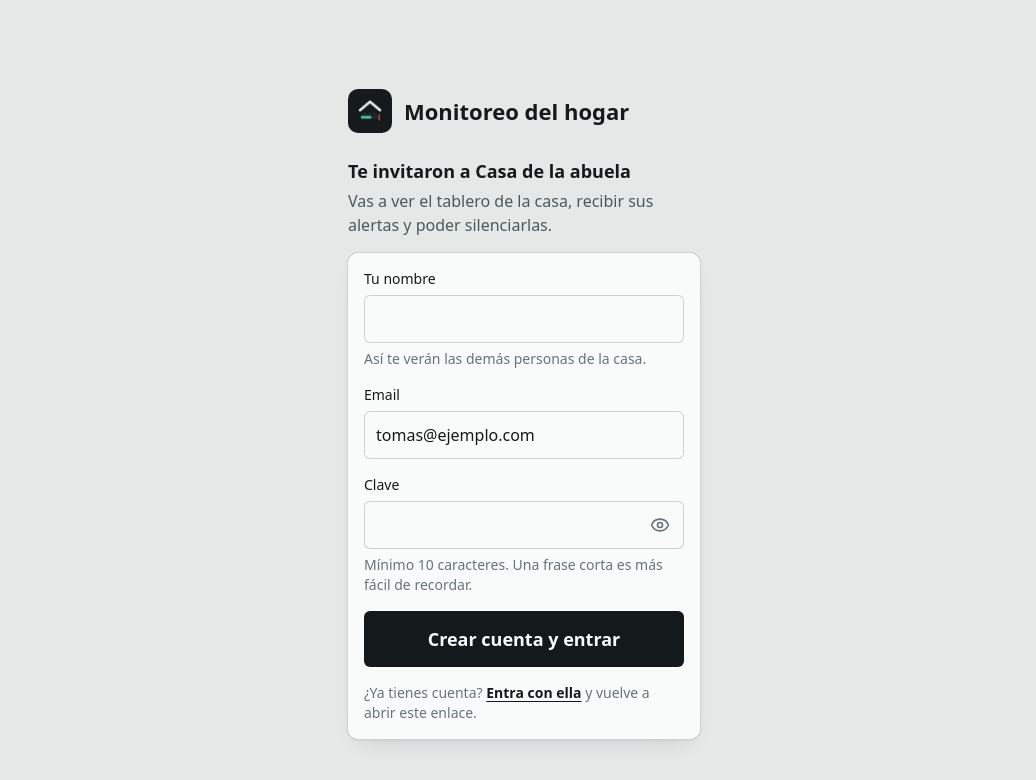
Test: Invitación › sin cuenta: dice a qué casa invitan, crea la cuenta y entra
Check: the heading "Te invitaron a Casa de la abuela" is shown, box [348,159,631,183]
Check: the field labelled "Email" holds "tomas@ejemplo.com", box [364,411,684,459]
Type " Tomás " into the field labelled "Tu nombre" at (524, 319), box [364,295,684,343]
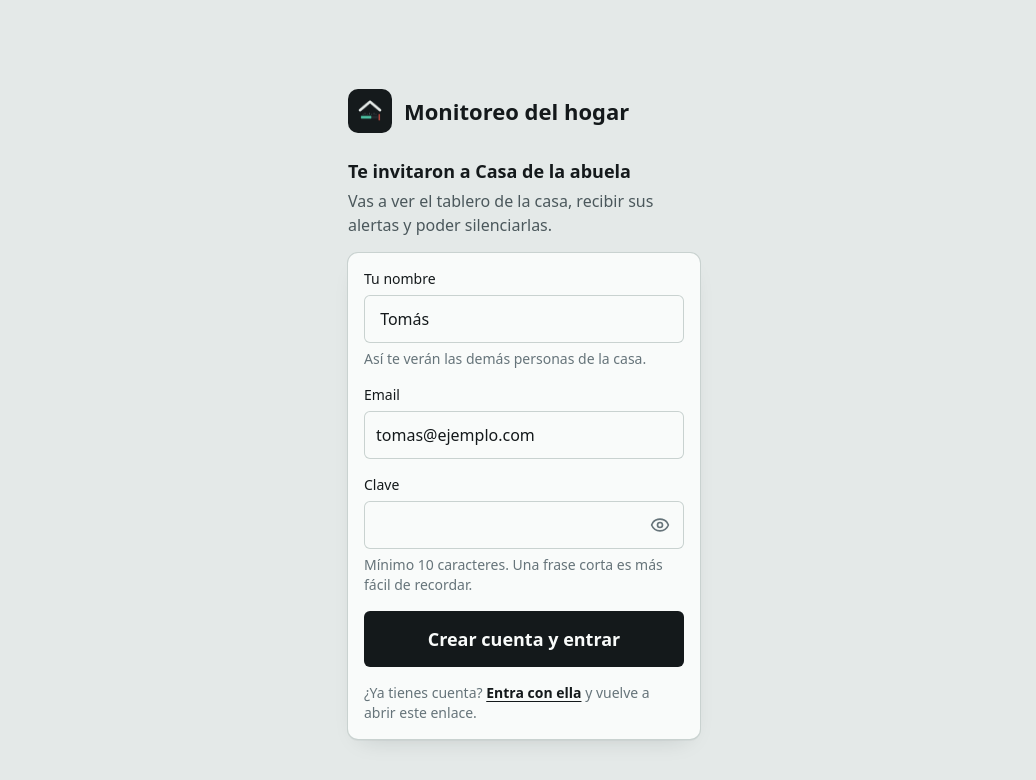
Type "una clave larga" into the password field labelled "Clave" at (524, 525), box [364,501,684,549]
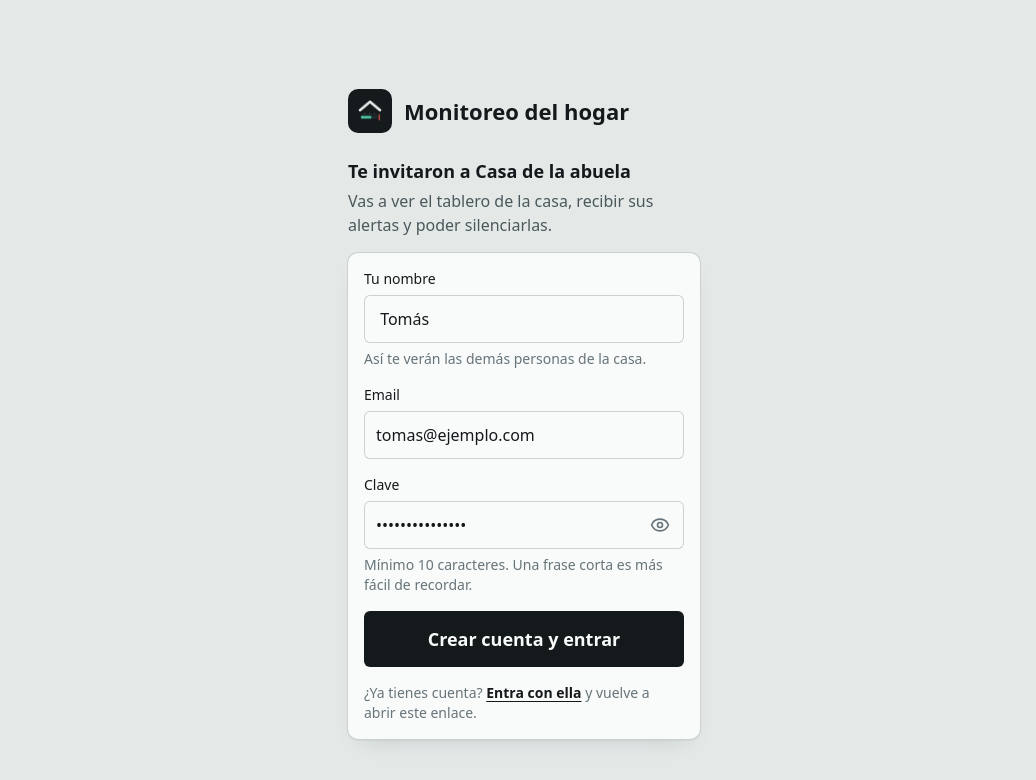
Click the button "Crear cuenta y entrar" at (524, 639), box [364,611,684,667]
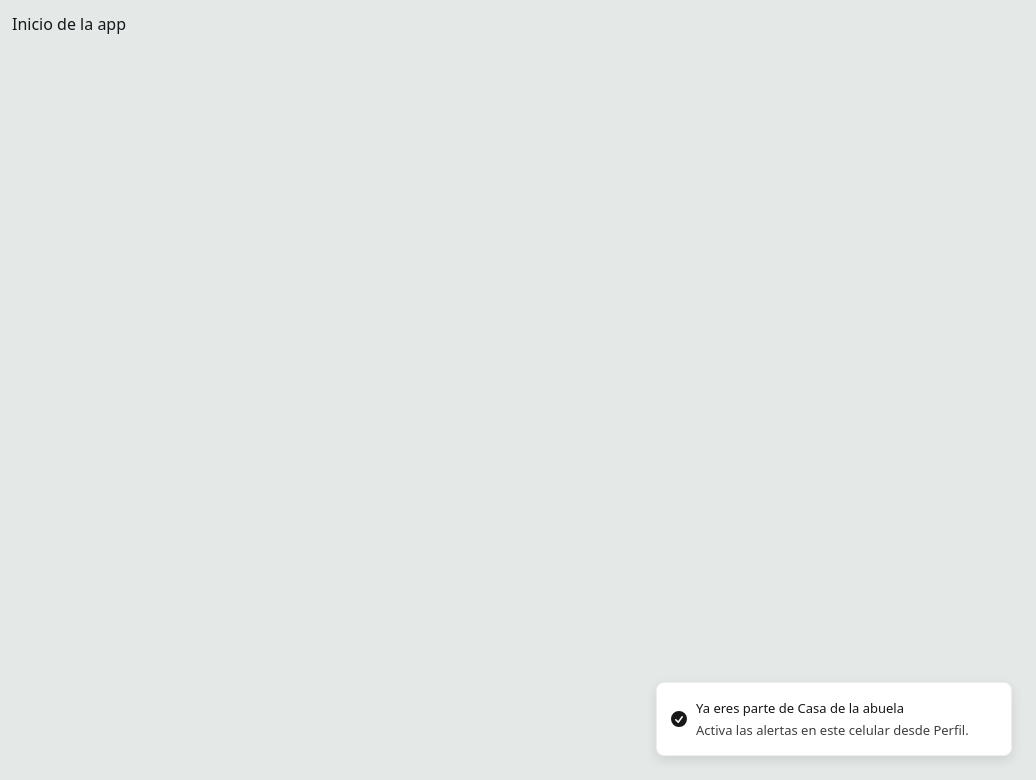
Check: the text "Inicio de la app" is shown, box [12,13,126,35]
